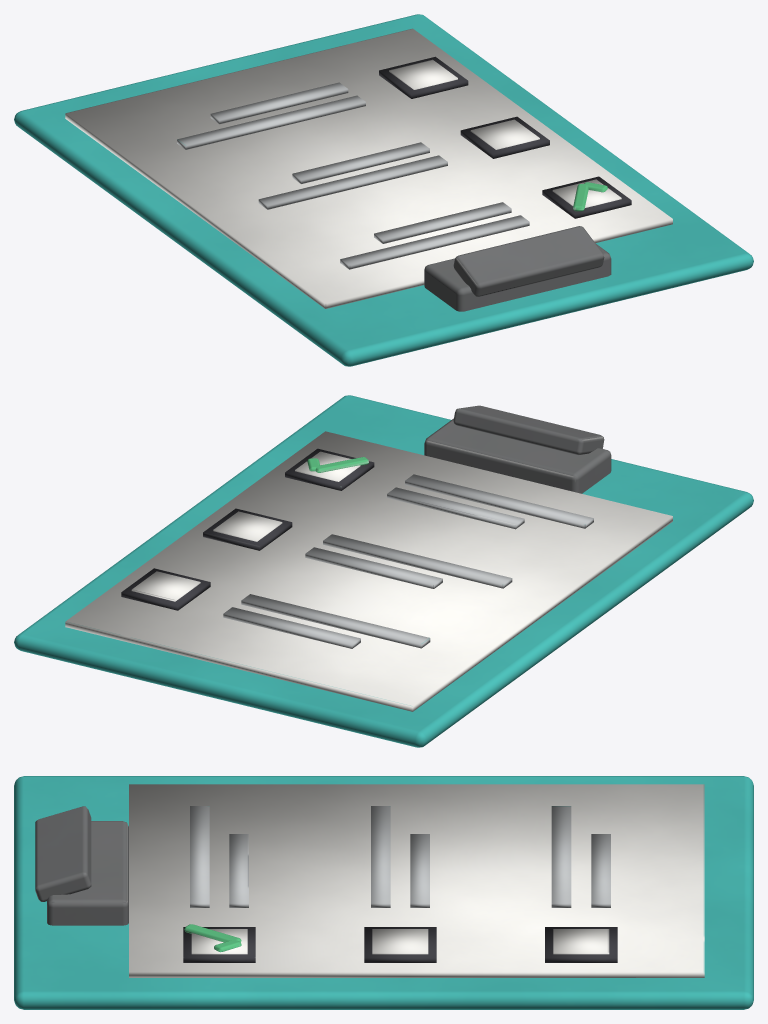
The model's file is Inspect_Clipboard.fbx.
The picture shows the model from 3 angles, top to bottom: view 1: azimuth 30°, elevation 25°; view 2: azimuth 150°, elevation 25°; view 3: azimuth 270°, elevation 25°; orthographic projection. The views are drawn at different scales.
Parts seen in each view (by area): view 1: Inspect_Clipboard; view 2: Inspect_Clipboard; view 3: Inspect_Clipboard.
Part boxes in pixels (left/top/right/bottom): Inspect_Clipboard: left=14, top=14, right=753, bottom=366; Inspect_Clipboard: left=14, top=395, right=753, bottom=747; Inspect_Clipboard: left=14, top=776, right=753, bottom=1009.
Size of the model in its own units: 0.32 by 0.042 by 0.45.
Materials: 1 (1 with a texture image).
